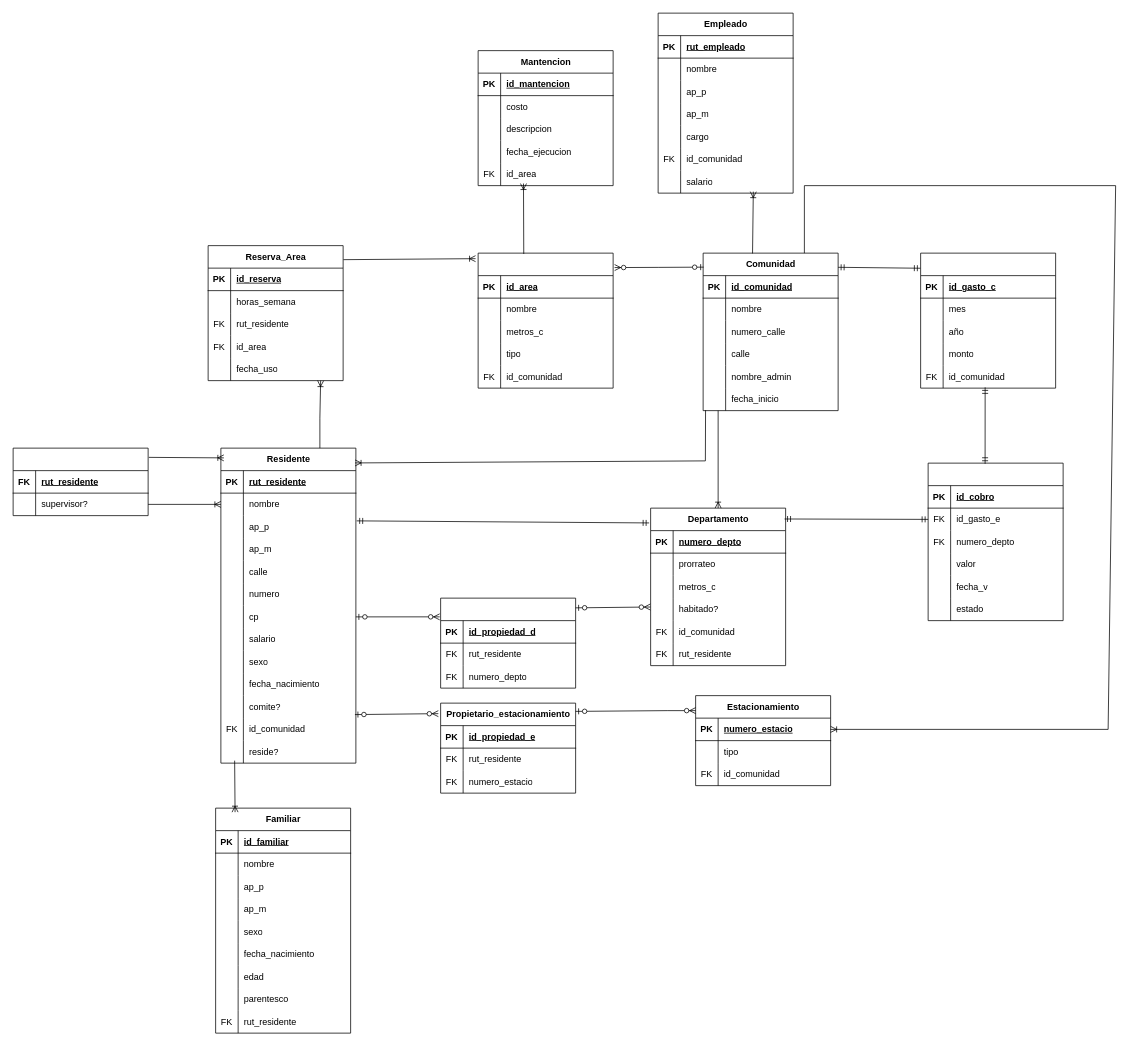
Image size: 1135x1046. Some labels were removed from this diagram. Each missing label, with the box of its shape:
Area_Comun: (477, 252, 613, 388)
Comite: (12, 447, 148, 516)
Emite_Cobro: (927, 462, 1063, 621)
Gasto_Comun: (920, 252, 1056, 388)
Propietario_departamento: (440, 597, 576, 688)
